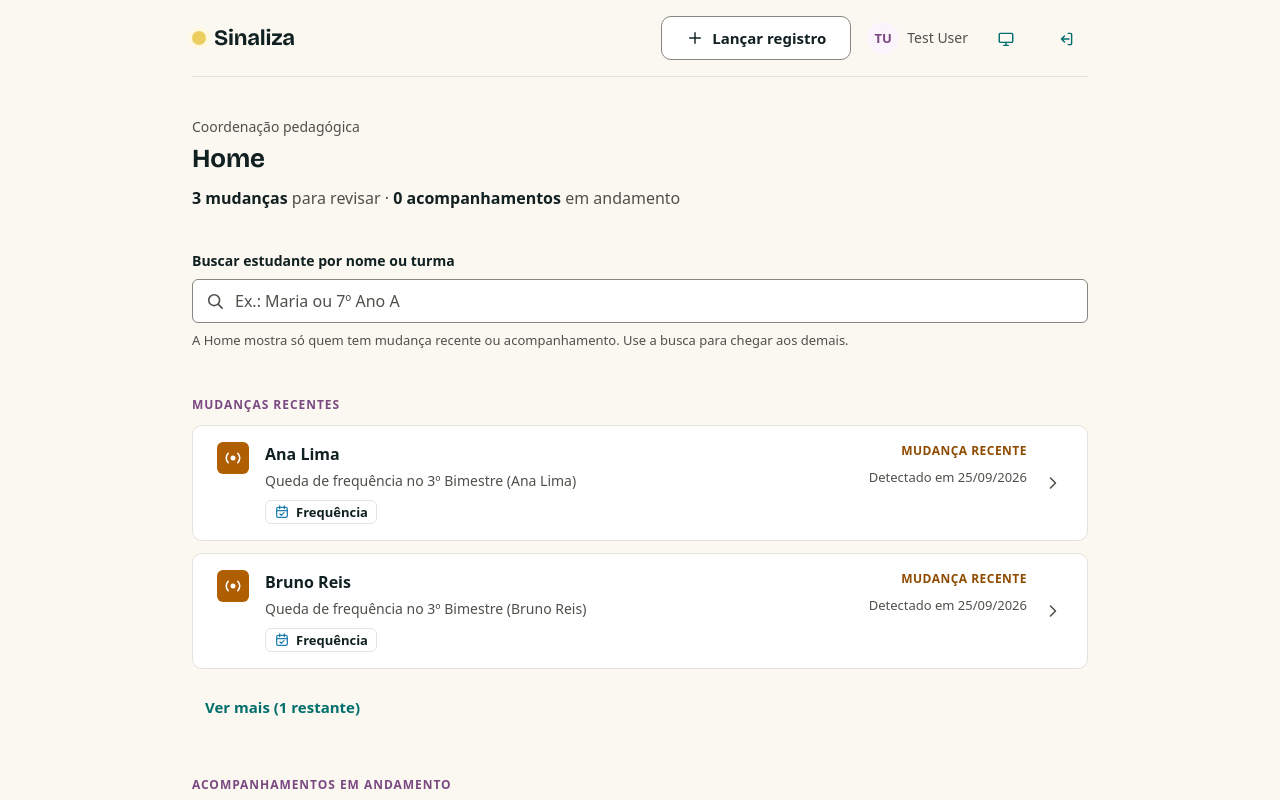
Home — acompanhamentos em andamento (Story 4.5) › shows the totals in the summary and pages through every recent change
Expected: the text "Ana Lima" is shown, [265,442,340,466]
Expected: the text "3 mudanças" is shown, [192,187,288,209]
Click the button "Ver mais (1 restante)".
click(282, 707)  # box [192,685,373,729]
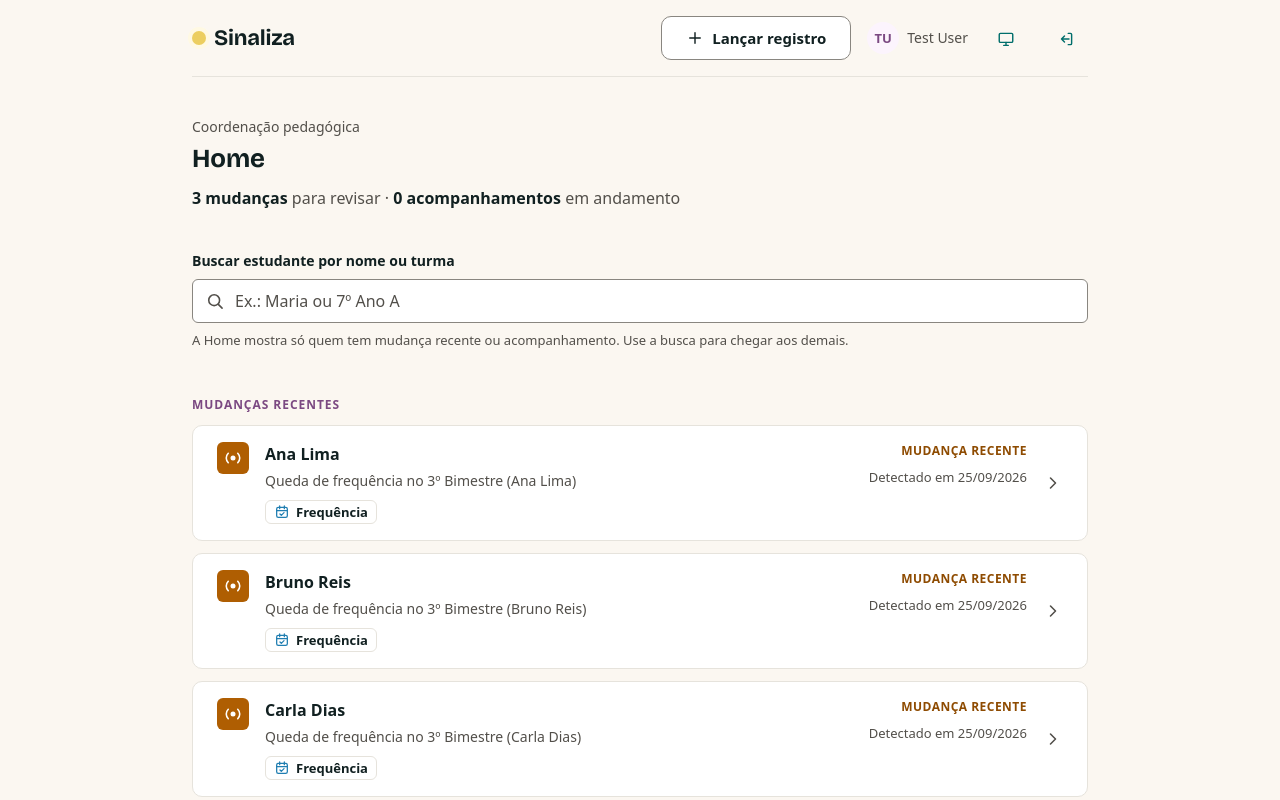
Expected: the text "Ana Lima" is shown, [265,442,340,466]
Result: the text "Carla Dias" is shown at [265,698,345,722]
Result: the button "Ver mais" is gone
